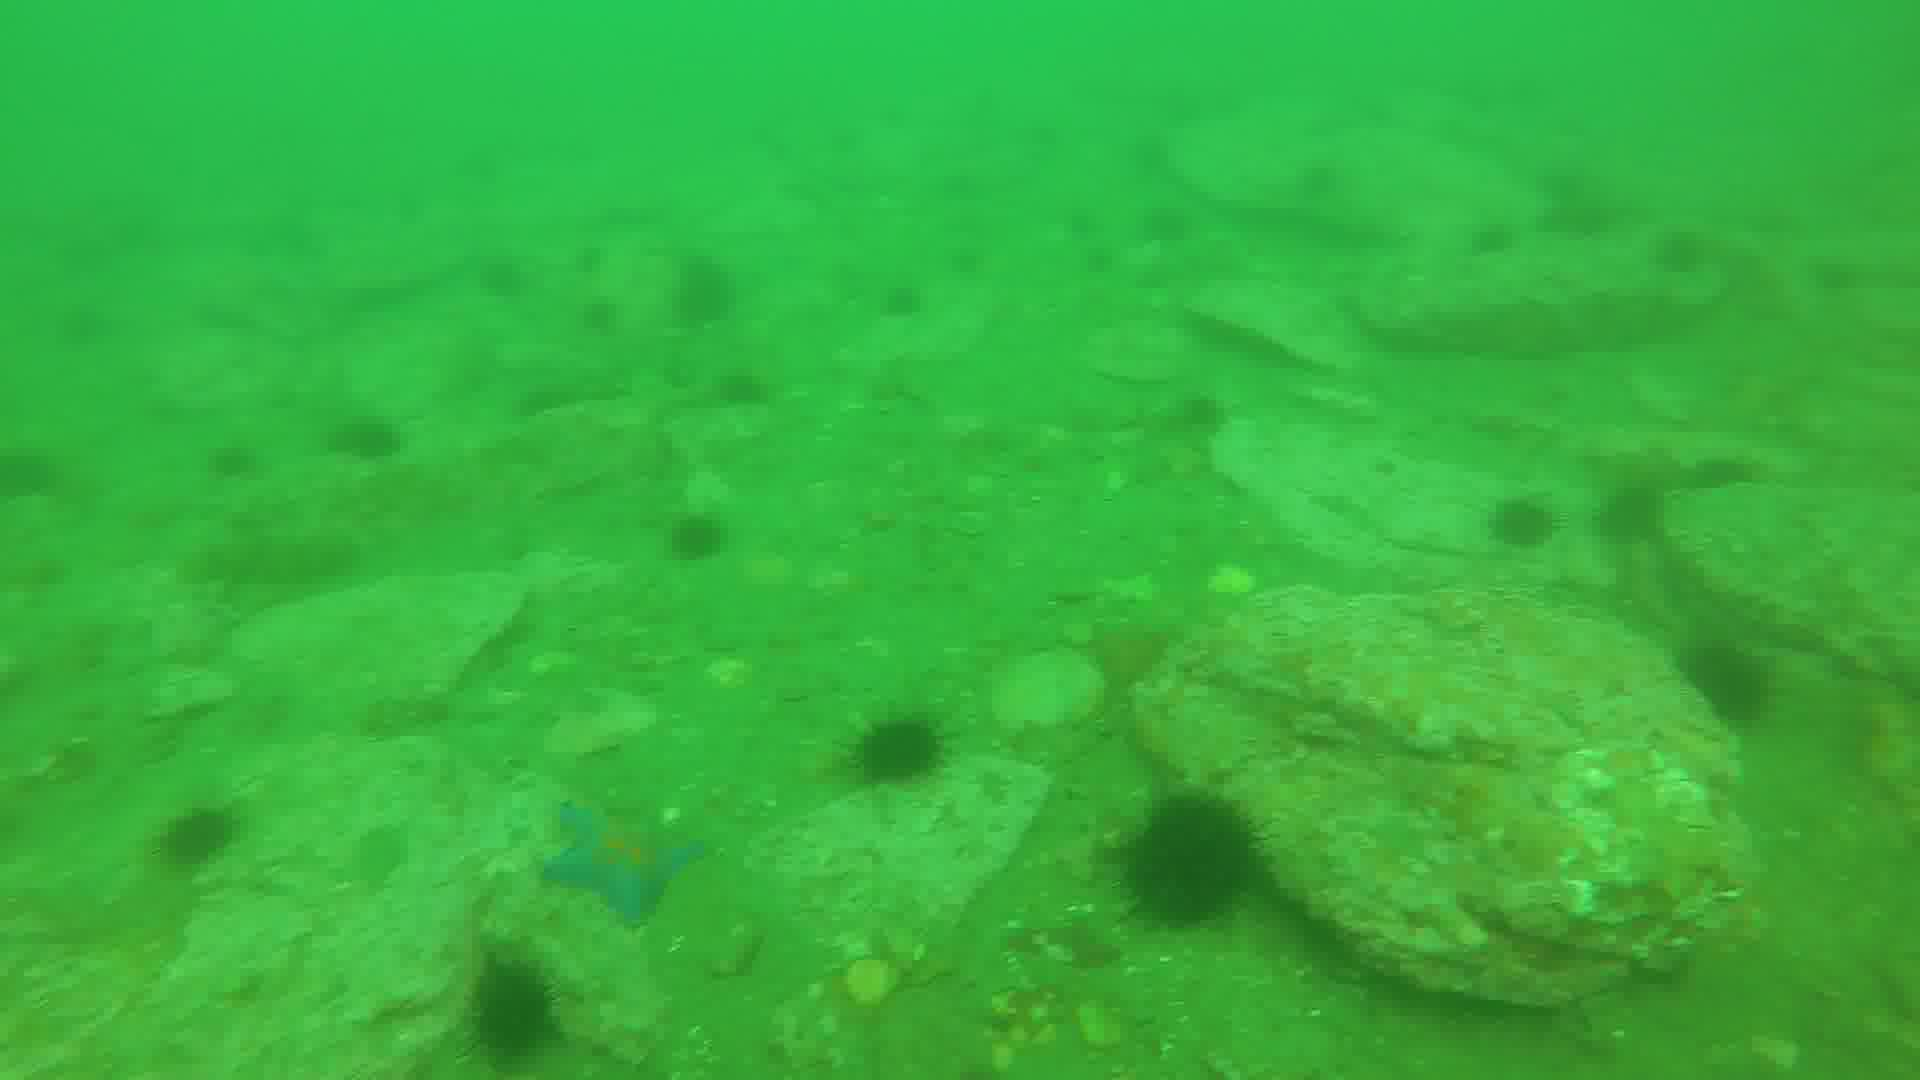echinus: (1116, 796, 1261, 924), (471, 963, 560, 1067), (1677, 638, 1783, 725), (849, 713, 945, 786), (1604, 477, 1672, 558), (157, 807, 241, 872), (1487, 498, 1572, 559), (334, 405, 404, 463), (676, 258, 741, 320), (7, 450, 69, 504), (1542, 200, 1607, 251), (1654, 228, 1710, 282), (673, 516, 731, 566), (705, 367, 769, 411), (1139, 208, 1192, 251), (1473, 227, 1522, 266), (889, 284, 924, 319)
starfish: (549, 800, 712, 924)
